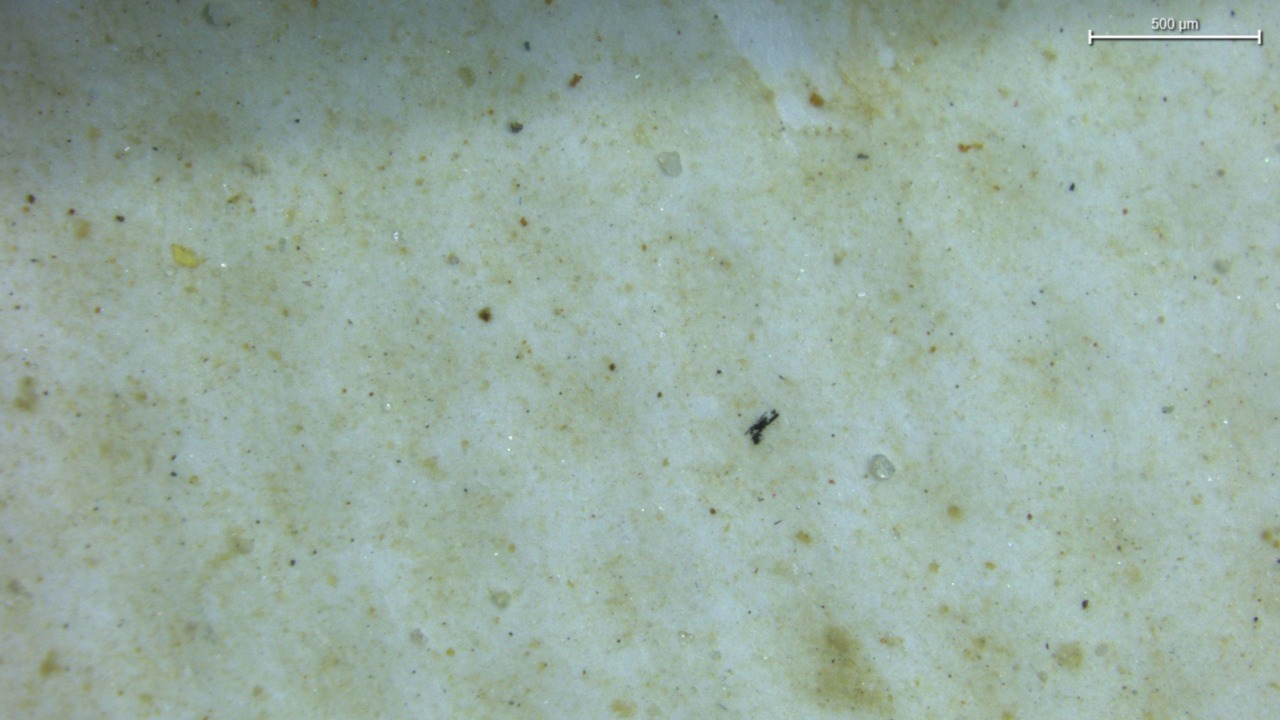microplastic_fragment: (867, 454, 895, 480), (656, 152, 682, 176)
